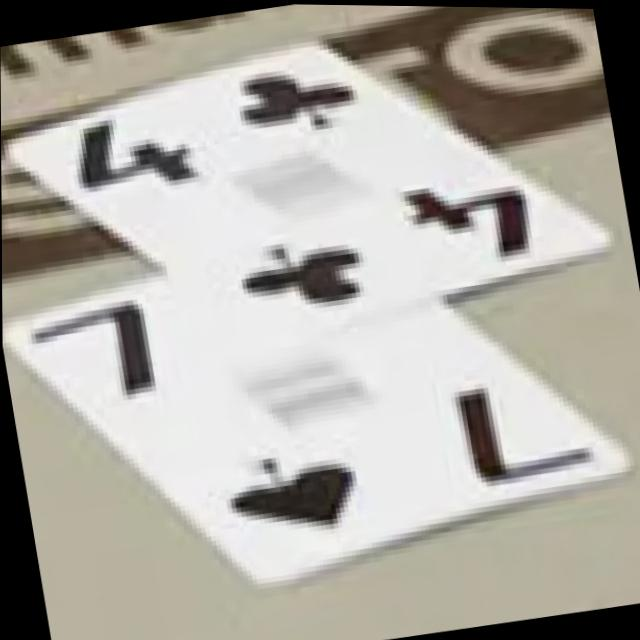Card-4: (4, 34, 614, 359)
Card-7: (4, 276, 633, 586)
